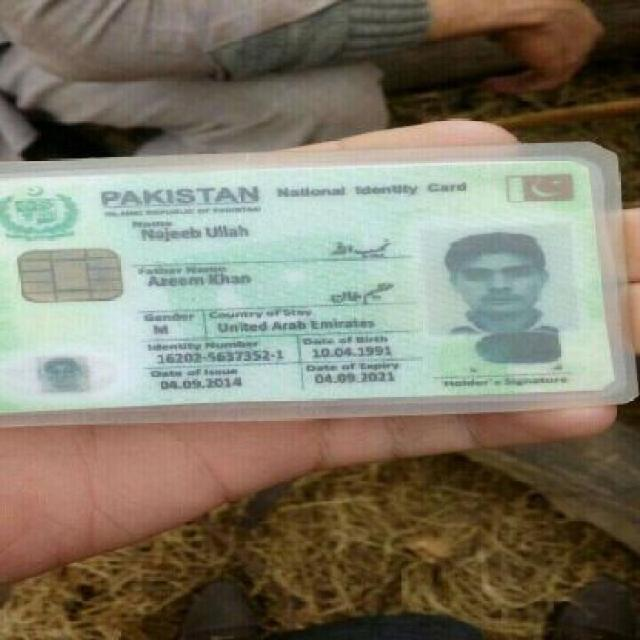Front: (6, 155, 629, 414)
